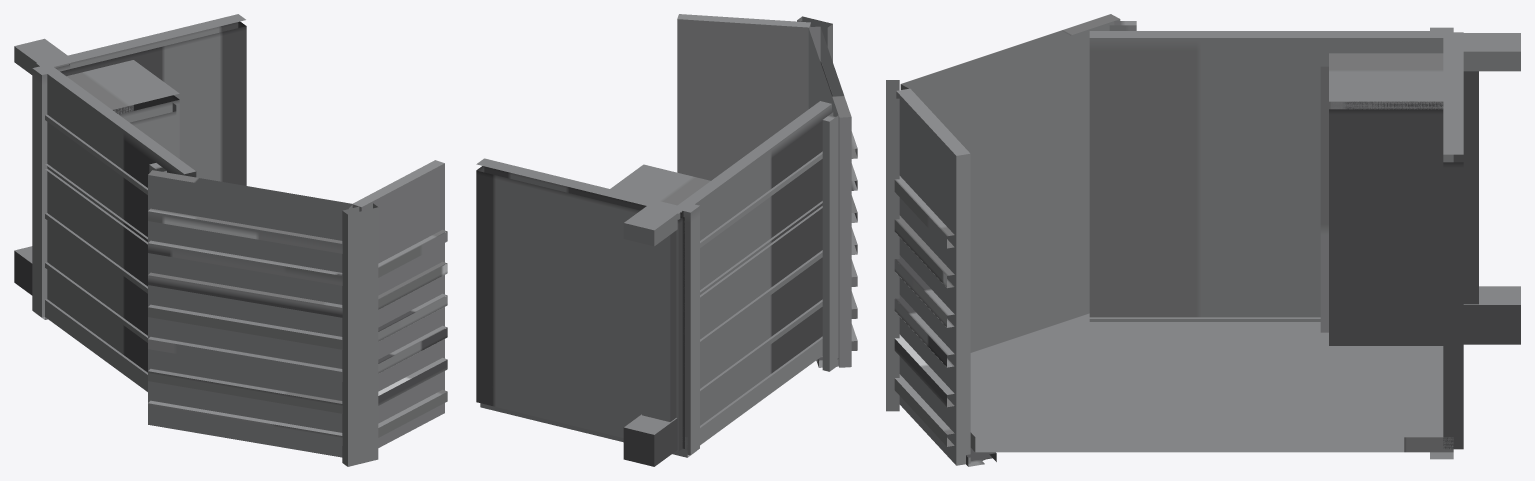
3 views of the same model, side by side, from view 1: azimuth 30°, elevation 25°; view 2: azimuth 150°, elevation 25°; view 3: azimuth 270°, elevation 25° (orthographic). The views are drawn at different scales.
Bounding box in the file's own units: 1.02 × 1.03 × 1.88.
